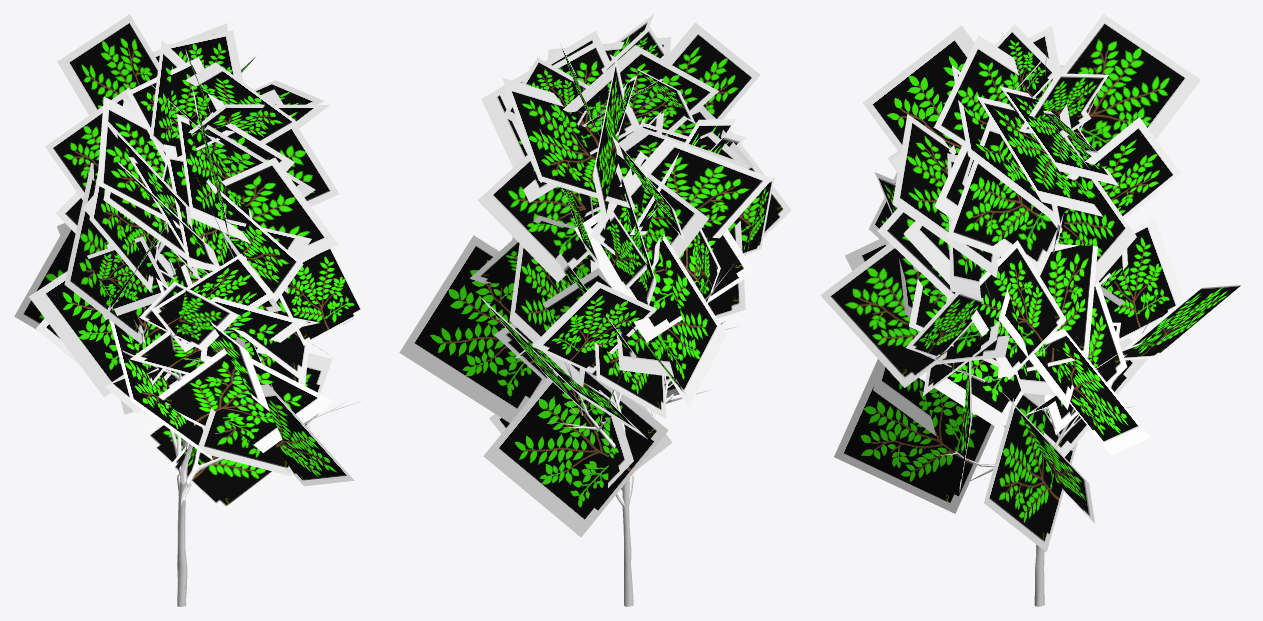
The model's file is tree_b.fbx.
3 views of the same model, side by side, from view 1: azimuth 30°, elevation 25°; view 2: azimuth 150°, elevation 25°; view 3: azimuth 270°, elevation 25° (orthographic).
Visible parts, largest first — view 1: tree_b; view 2: tree_b; view 3: tree_b.
Part boxes in pixels (<box>): tree_b: <box>14,14,370,606</box>; tree_b: <box>399,14,791,606</box>; tree_b: <box>820,14,1248,606</box>.
Bounding box in the file's own units: 25.94 × 47.48 × 31.73.
2 materials, 1 textured.
